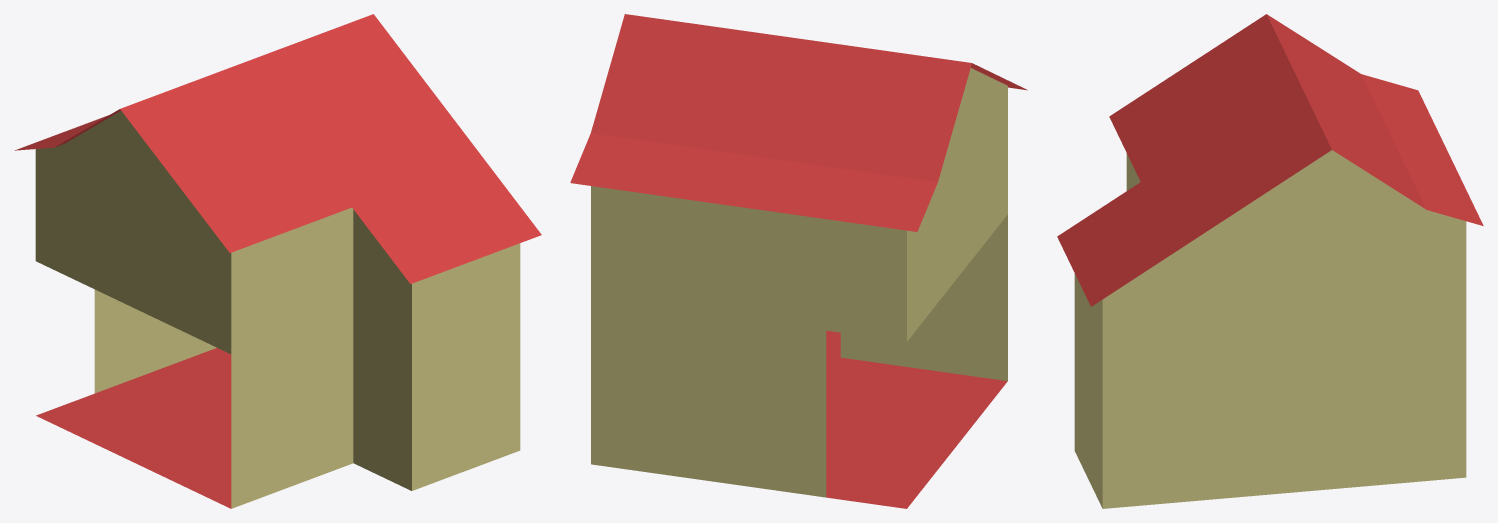
The picture shows the model from 3 angles, left to right: view 1: azimuth 30°, elevation 25°; view 2: azimuth 150°, elevation 25°; view 3: azimuth 270°, elevation 25°; orthographic projection. The views are drawn at different scales.
Bounding box in the file's own units: 13.5 × 14.34 × 12.82.
